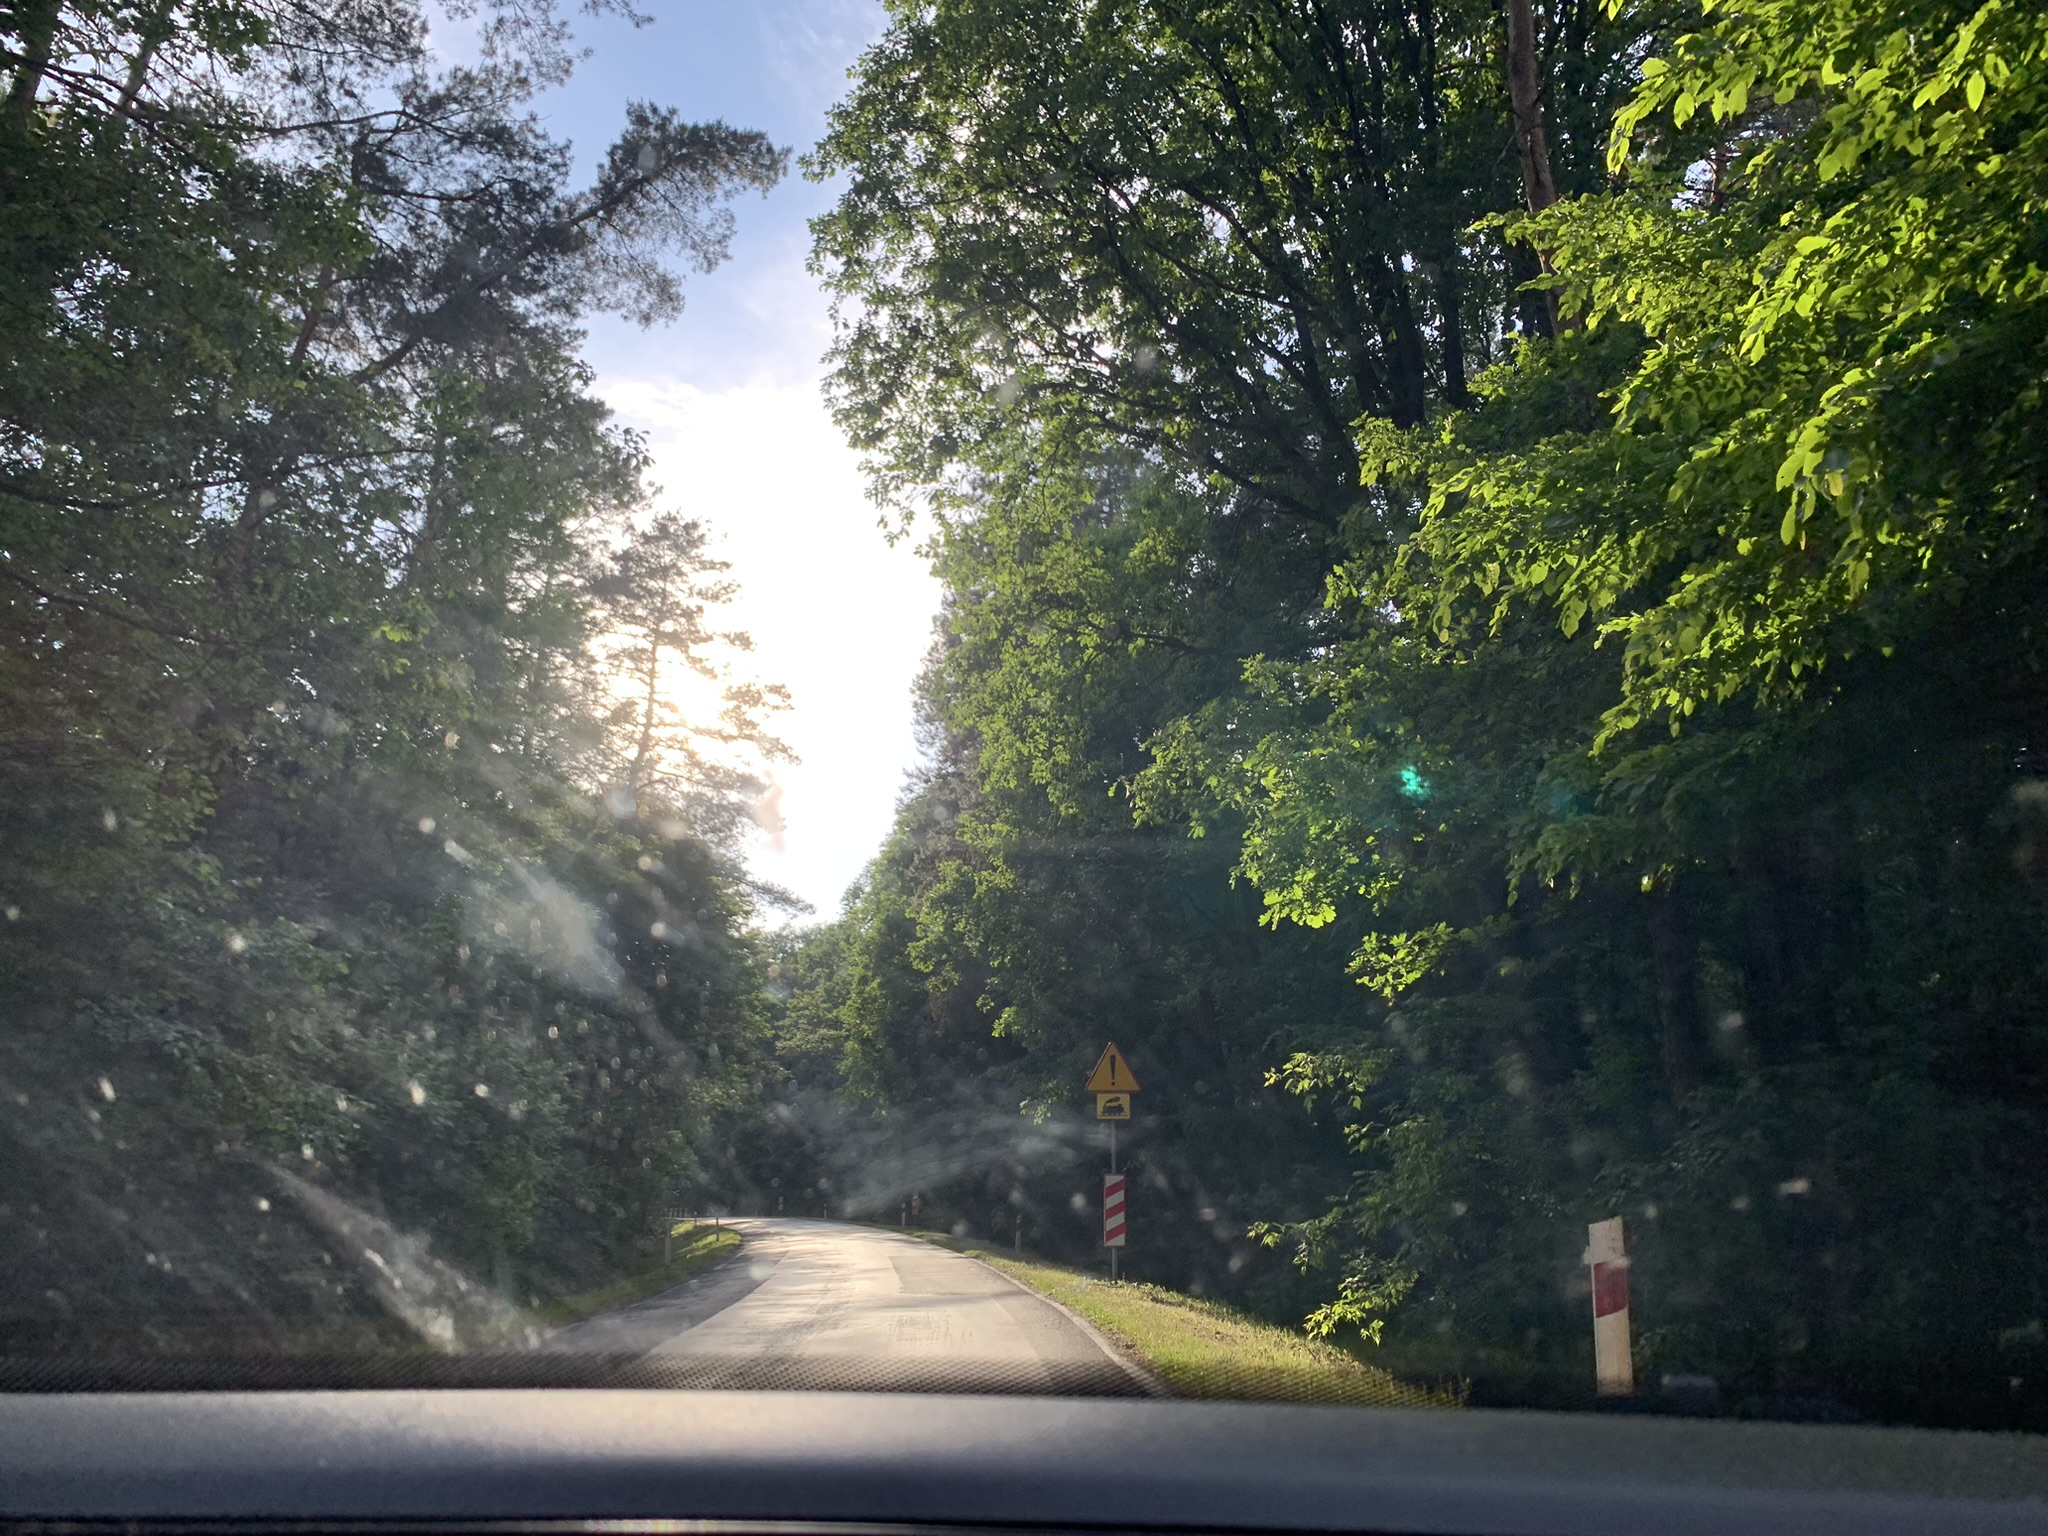a10: (1098, 1096, 1129, 1120)
